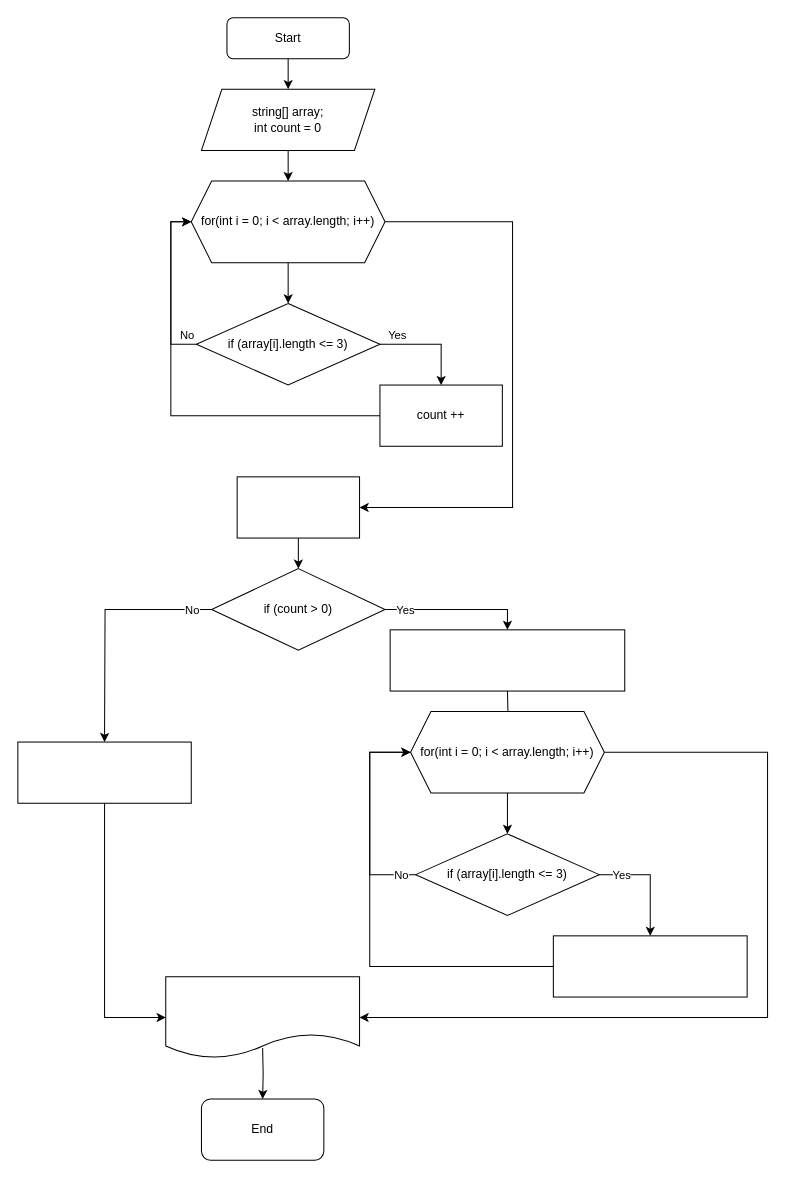
The diagram is 794 pixels wide and 1178 high, and some of its shapes have lost their labels. Here are the shapes that lost their labels. From the top down, the centre of each, then its label:
[298,507]: count
[507,660]: string[] newArray = new string[count]; count = 0;
[104,772]: string[] newArray = {" "}
[649,966]: newArray[count] = array[i]; count ++;
[262,1017]: return newArray;
